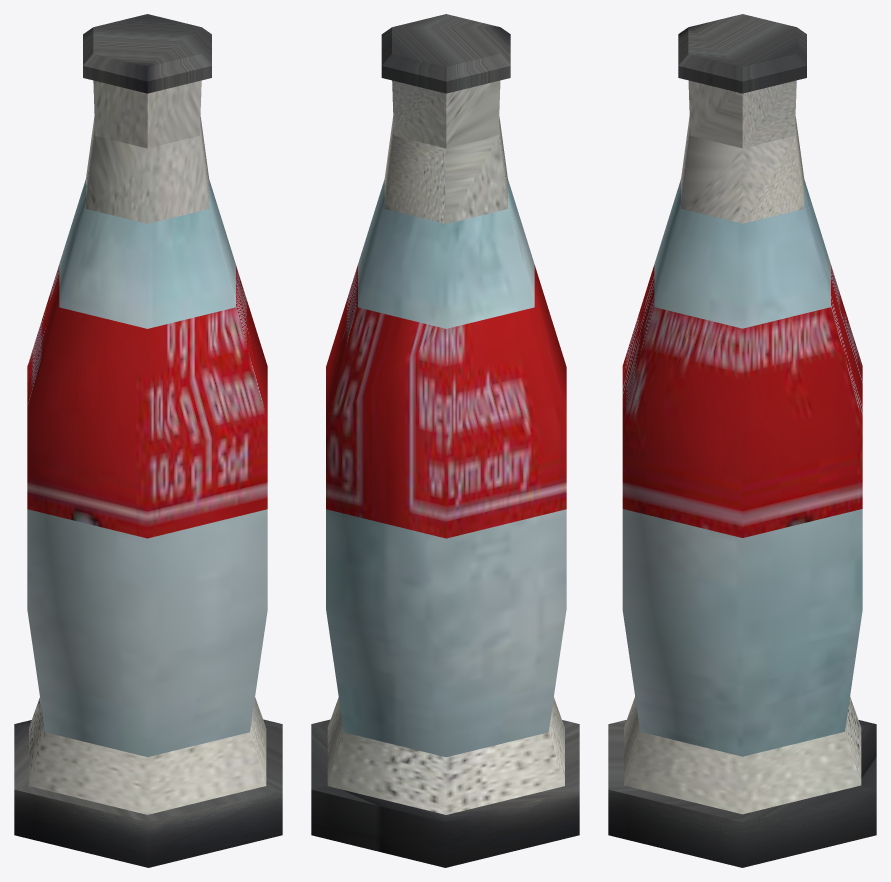
Rendered from cola.FBX.
The picture shows the model from 3 angles, left to right: view 1: azimuth 30°, elevation 25°; view 2: azimuth 150°, elevation 25°; view 3: azimuth 270°, elevation 25°; orthographic projection.
Visible parts, largest first — view 1: Cylinder001, Object001, Cylinder002, Object003, Object004, Object002; view 2: Cylinder001, Object001, Cylinder002, Object003, Object004, Object002; view 3: Cylinder001, Object001, Cylinder002, Object003, Object004, Object002.
Boxes of the visible parts, box(x1,y1,x2,y2) form: Cylinder001: box(27, 179, 267, 757); Object001: box(27, 265, 267, 538); Cylinder002: box(14, 719, 282, 867); Object003: box(86, 80, 209, 223); Object004: box(29, 697, 266, 814); Object002: box(83, 14, 211, 93); Cylinder001: box(326, 179, 566, 757); Object001: box(326, 265, 566, 538); Cylinder002: box(311, 719, 579, 867); Object003: box(384, 80, 507, 223); Object004: box(327, 697, 564, 814); Object002: box(381, 14, 510, 93); Cylinder001: box(622, 179, 862, 756); Object001: box(622, 265, 862, 537); Cylinder002: box(608, 720, 876, 867); Object003: box(681, 80, 804, 223); Object004: box(624, 696, 861, 814); Object002: box(678, 14, 806, 93).
Size of the model in its own units: 34.46 by 93.52 by 29.84.
Materials: 4 (4 with a texture image).
